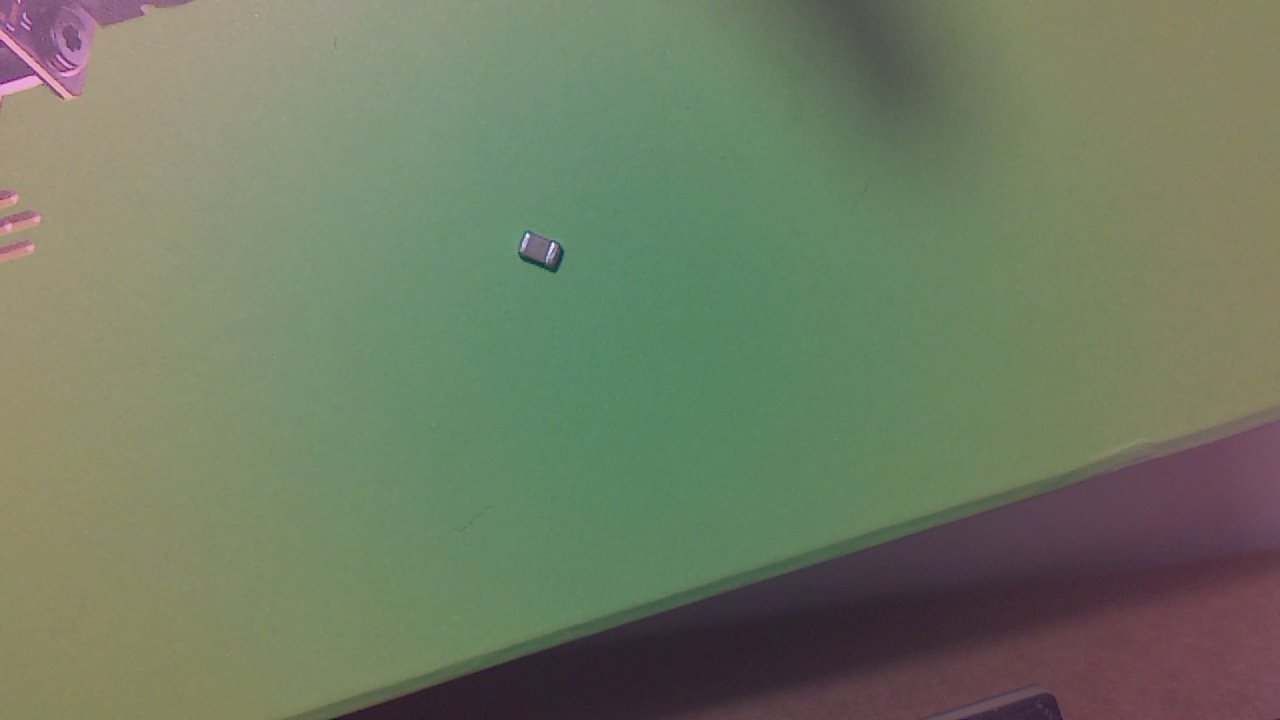Condensator: (522, 235, 567, 278)
